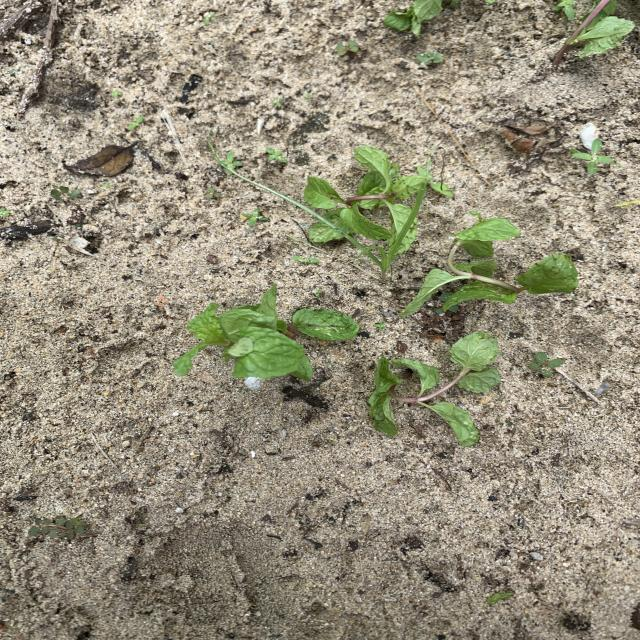crop: (173, 284, 359, 378), (400, 216, 579, 313), (370, 333, 499, 444), (304, 146, 429, 243), (553, 0, 637, 67), (384, 0, 458, 36)
weed: (225, 166, 424, 273), (27, 516, 87, 540), (571, 138, 612, 173), (418, 160, 452, 196), (528, 352, 563, 375), (51, 186, 80, 202), (553, 1, 575, 19), (416, 52, 443, 66), (336, 40, 359, 55), (266, 147, 287, 163), (127, 116, 143, 131), (615, 200, 639, 207), (205, 188, 220, 199), (203, 12, 215, 23), (0, 208, 10, 219), (112, 89, 122, 98), (374, 322, 386, 328), (315, 289, 321, 296)
